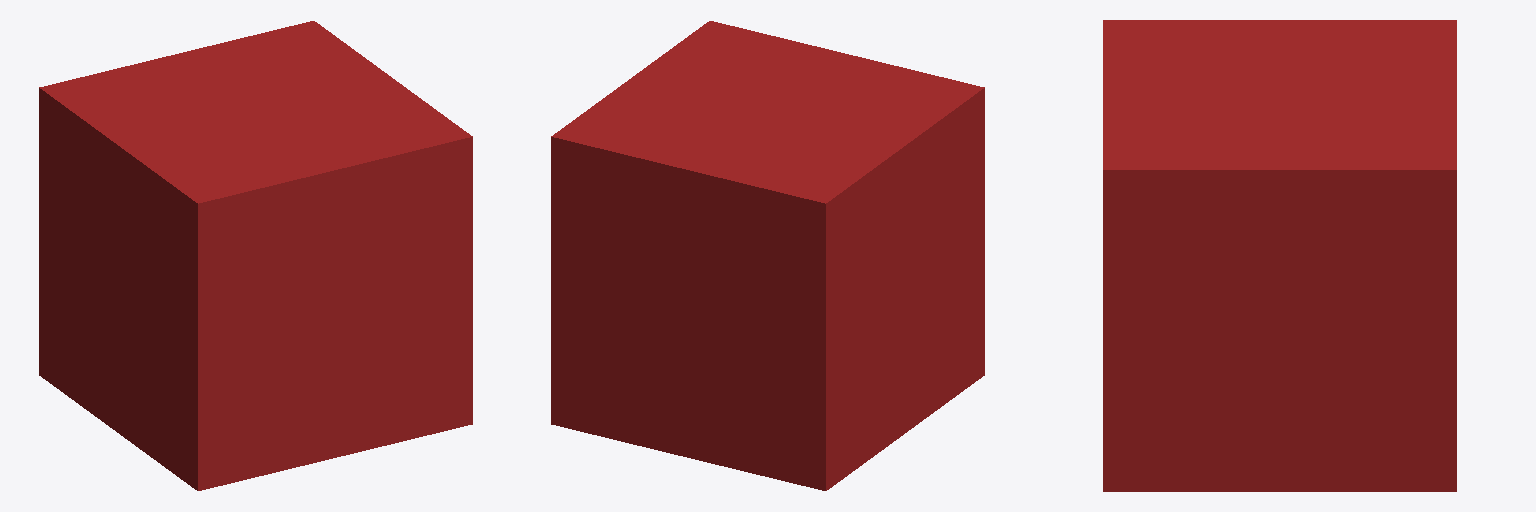
The robot description file, URDF, robot "simple_box":
<robot name="simple_box">
  <!-- Box Link -->
  <link name="box_link">
    <!-- Inertial properties -->
    <inertial>
      <origin xyz="0 0 0" rpy="0 0 0" />
      <mass value="1.0" />
      <inertia ixx="0.02" iyy="0.02" izz="0.02" ixy="0.0" ixz="0.0" iyz="0.0" />
    </inertial>
    
    <!-- Visual representation -->
    <visual>
      <origin xyz="0 0 0" rpy="0 0 0" />
      <geometry>
        <box size="0.05 0.05 0.05" />
      </geometry>
      <material name="red">
        <color rgba="0.7 0.2 0.2 1" />
      </material>
    </visual>

    <!-- Collision geometry -->
    <collision>
      <origin xyz="0 0 0" rpy="0 0 0" />
      <geometry>
        <box size="0.05 0.05 0.05" />
      </geometry>
    </collision>
  </link>
  <gazebo>
    <plugin name="gazebo_ros_state" filename="libgazebo_ros_state.so">
      <ros>
        <namespace>/gazebo</namespace>
      </ros>
    </plugin>
  </gazebo>

</robot>

--- Facts derived from the render (not from the file) ---
The picture shows the robot from 3 angles, left to right: view 1: azimuth 30°, elevation 25°; view 2: azimuth 150°, elevation 25°; view 3: azimuth 270°, elevation 25°; orthographic projection.
Robot: simple_box — 1 links, 0 joints (none); root link box_link; default pose: every joint at zero.
Visible links, largest first — view 1: box_link; view 2: box_link; view 3: box_link.
Link boxes in pixels (<box>): box_link: <box>39,21,472,490</box>; box_link: <box>551,21,984,490</box>; box_link: <box>1103,20,1456,491</box>.
Size in the robot's own frame: 0.05 by 0.05 by 0.05 metres.
Geometry: primitives only (box / cylinder / sphere), no mesh files.